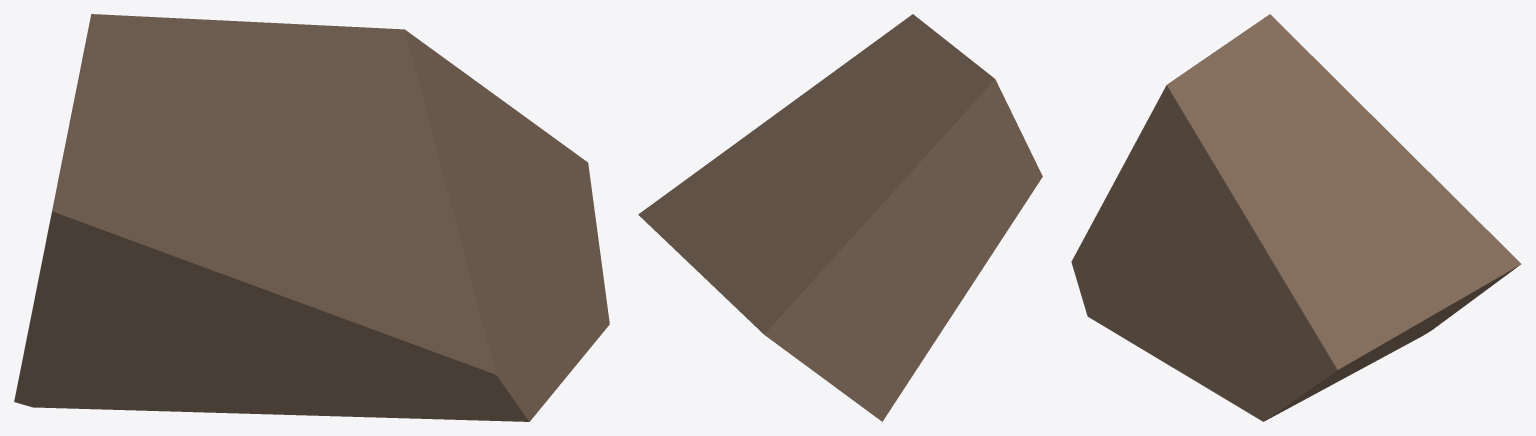
Rendered from JaggedRock4.fbx.
3 views of the same model, side by side, from view 1: azimuth 30°, elevation 25°; view 2: azimuth 150°, elevation 25°; view 3: azimuth 270°, elevation 25° (orthographic). The views are drawn at different scales.
Parts seen in each view (by area): view 1: JaggedRock4; view 2: JaggedRock4; view 3: JaggedRock4.
Boxes of the visible parts, x1=… form: JaggedRock4: x1=14, y1=14, x2=609, y2=421; JaggedRock4: x1=638, y1=14, x2=1042, y2=421; JaggedRock4: x1=1071, y1=14, x2=1521, y2=421.
Size of the model in its own units: 37.36 by 29.31 by 39.67.
